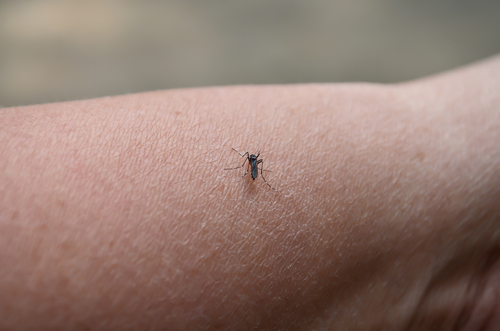dengue_mosquito: (222, 147, 280, 192)
